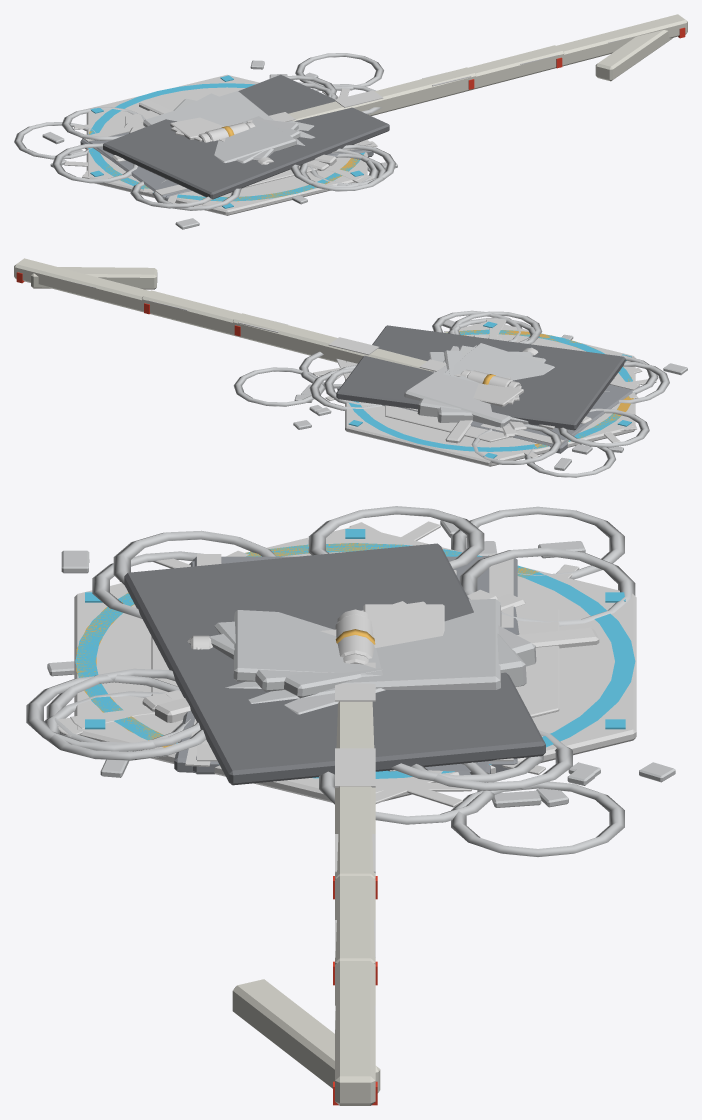
Rendered from props_floor.glb.
3 renders of one model, top to bottom at view 1: azimuth 30°, elevation 25°; view 2: azimuth 150°, elevation 25°; view 3: azimuth 270°, elevation 25°, orthographic. The views are drawn at different scales.
Parts seen in each view (by area): view 1: plate_v2, pad_v0, wreck_v0, arm_v1, arm_v0, wreck_v2, wreck_v1, arm_v2, plate_v0, pod_v0, pad_v1, plate_v1; view 2: plate_v2, wreck_v0, pad_v0, arm_v0, wreck_v2, arm_v1, wreck_v1, arm_v2, plate_v0, pad_v1, pod_v0; view 3: plate_v2, pad_v0, wreck_v0, wreck_v2, wreck_v1, arm_v1, arm_v0, arm_v2, plate_v0, pad_v1, pod_v0, plate_v1.
Boxes of the visible parts, x1=… form: plate_v2: x1=103, y1=74, x2=389, y2=199; pad_v0: x1=86, y1=74, x2=367, y2=215; wreck_v0: x1=42, y1=53, x2=383, y2=229; arm_v1: x1=355, y1=30, x2=673, y2=114; arm_v0: x1=247, y1=14, x2=687, y2=122; wreck_v2: x1=14, y1=74, x2=385, y2=204; wreck_v1: x1=50, y1=56, x2=397, y2=210; arm_v2: x1=288, y1=67, x2=476, y2=121; plate_v0: x1=82, y1=122, x2=372, y2=198; pod_v0: x1=198, y1=122, x2=255, y2=142; pad_v1: x1=89, y1=131, x2=359, y2=201; plate_v1: x1=80, y1=139, x2=377, y2=200; plate_v2: x1=336, y1=325, x2=625, y2=430; wreck_v0: x1=233, y1=318, x2=687, y2=470; pad_v0: x1=345, y1=321, x2=635, y2=466; arm_v0: x1=14, y1=258, x2=461, y2=376; wreck_v2: x1=309, y1=311, x2=649, y2=477; arm_v1: x1=31, y1=267, x2=362, y2=363; wreck_v1: x1=238, y1=310, x2=658, y2=464; arm_v2: x1=233, y1=313, x2=432, y2=371; plate_v0: x1=382, y1=379, x2=639, y2=452; pad_v1: x1=446, y1=330, x2=633, y2=447; pod_v0: x1=461, y1=369, x2=520, y2=387; plate_v2: x1=124, y1=543, x2=545, y2=785; pad_v0: x1=74, y1=526, x2=636, y2=802; wreck_v0: x1=46, y1=530, x2=624, y2=856; wreck_v2: x1=26, y1=506, x2=624, y2=790; wreck_v1: x1=44, y1=520, x2=675, y2=857; arm_v1: x1=232, y1=876, x2=380, y2=1092; arm_v0: x1=333, y1=662, x2=377, y2=1105; arm_v2: x1=333, y1=701, x2=377, y2=899; plate_v0: x1=193, y1=554, x2=517, y2=774; pad_v1: x1=76, y1=543, x2=537, y2=747; pod_v0: x1=335, y1=609, x2=375, y2=664; plate_v1: x1=174, y1=556, x2=519, y2=775.
Size of the model in its own units: 3.52 by 0.128 by 1.6.
